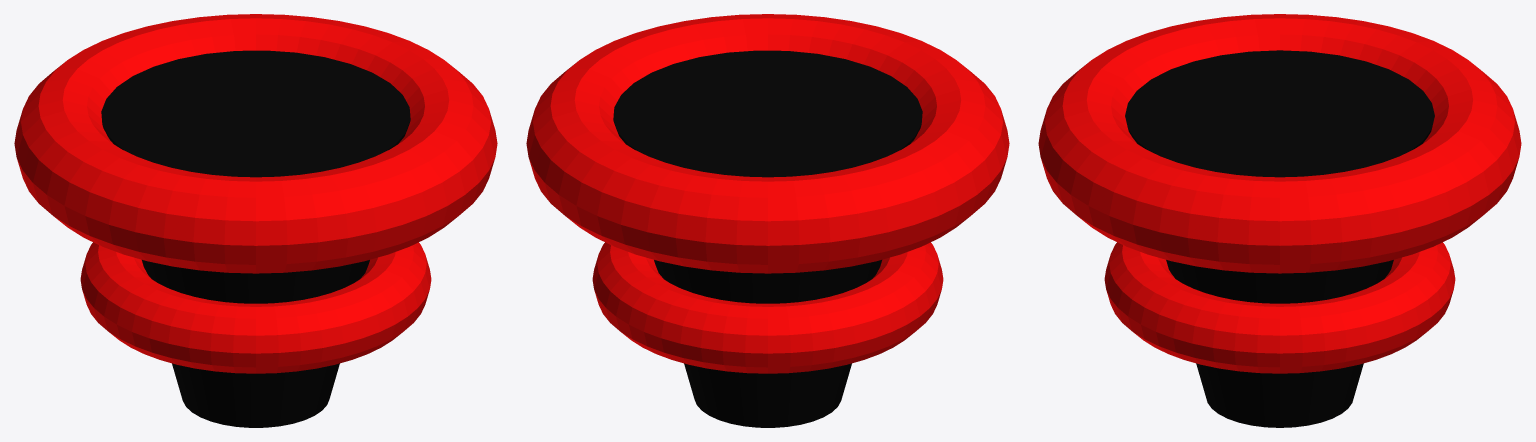
The model's file is Piros torony felso.glb.
The picture shows the model from 3 angles, left to right: view 1: azimuth 30°, elevation 25°; view 2: azimuth 150°, elevation 25°; view 3: azimuth 270°, elevation 25°; orthographic projection.
Parts seen in each view (by area): view 1: Torus.006; view 2: Torus.006; view 3: Torus.006.
Boxes of the visible parts, x1=… form: Torus.006: x1=14, y1=14, x2=497, y2=427; Torus.006: x1=526, y1=14, x2=1009, y2=427; Torus.006: x1=1038, y1=14, x2=1521, y2=427.
Size of the model in its own units: 3.12 by 2.11 by 3.12.
